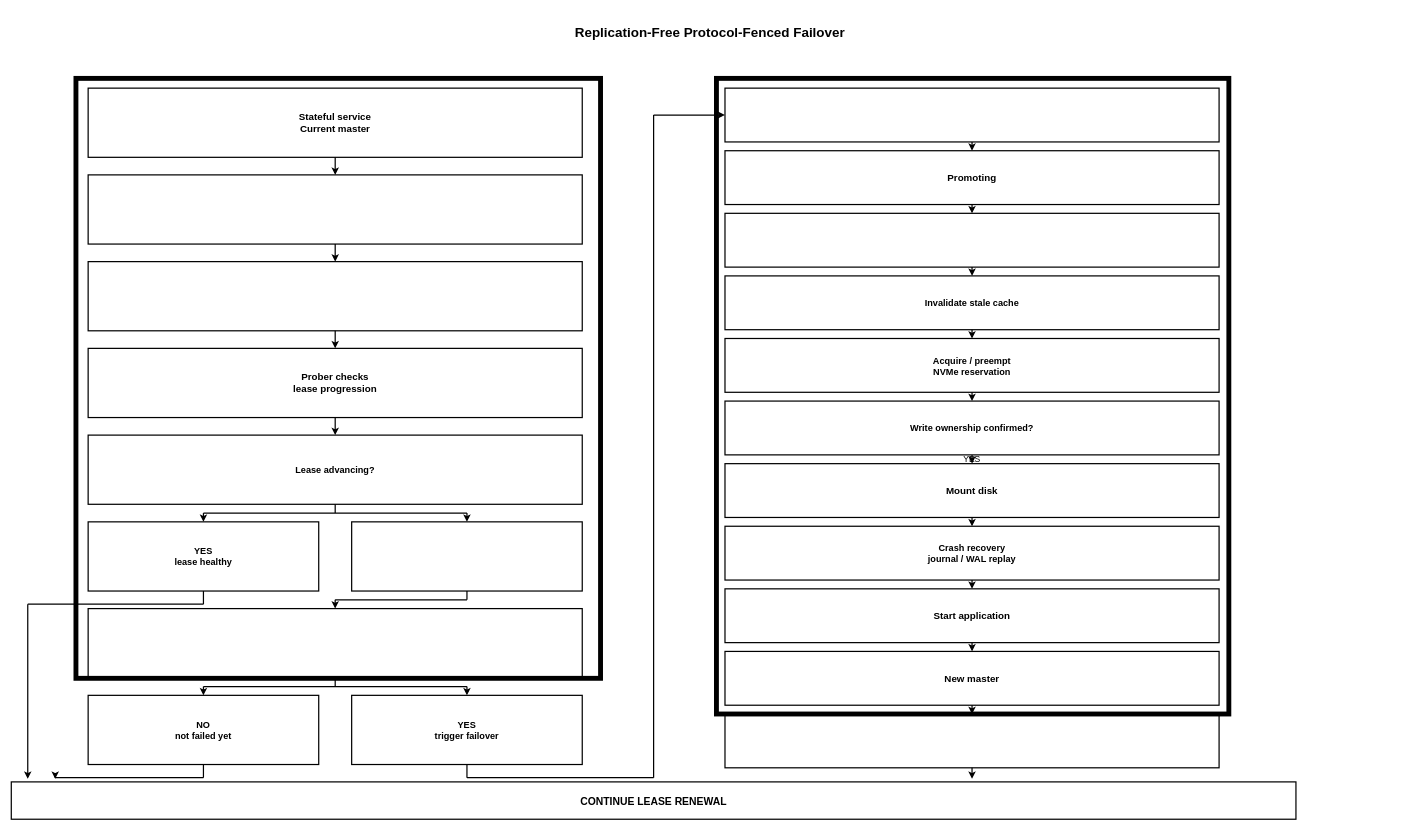
Some shapes in this 1419 by 830 pixel diagram are drawn without their labels. The shapes that lost their labels are listed below. From the top down, each one's centre as x and y in pixels, then its label:
pixel 971 114: Suspect master failure
pixel 335 209: Periodically renew lease on shared NVMe disk
pixel 971 239: Node agent
pixel 335 296: Shadow / standby node
pixel 467 556: NO check miss count
pixel 335 643: N consecutive misses?
pixel 971 740: Serve read/write traffic
